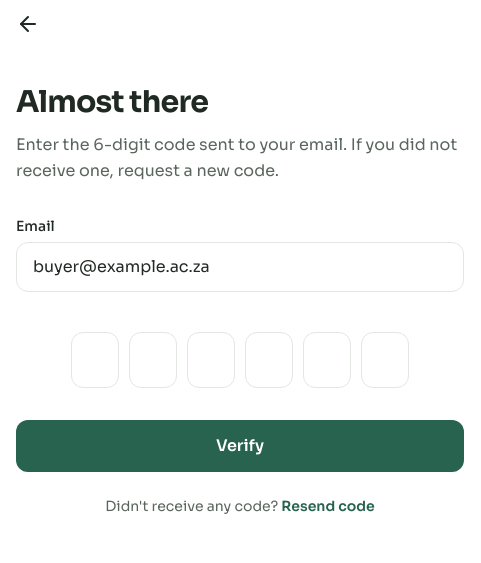
Test: Verification recovery › shows mail delivery errors instead of claiming a code was sent
Click the button "Resend code" at (328, 506), box [281,496,375,516]
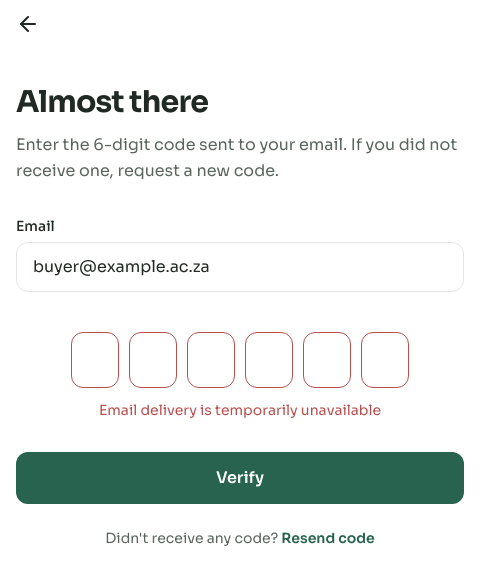
expect the text "Email delivery is temporarily unavailable" is shown: met, box [99,401,381,419]
